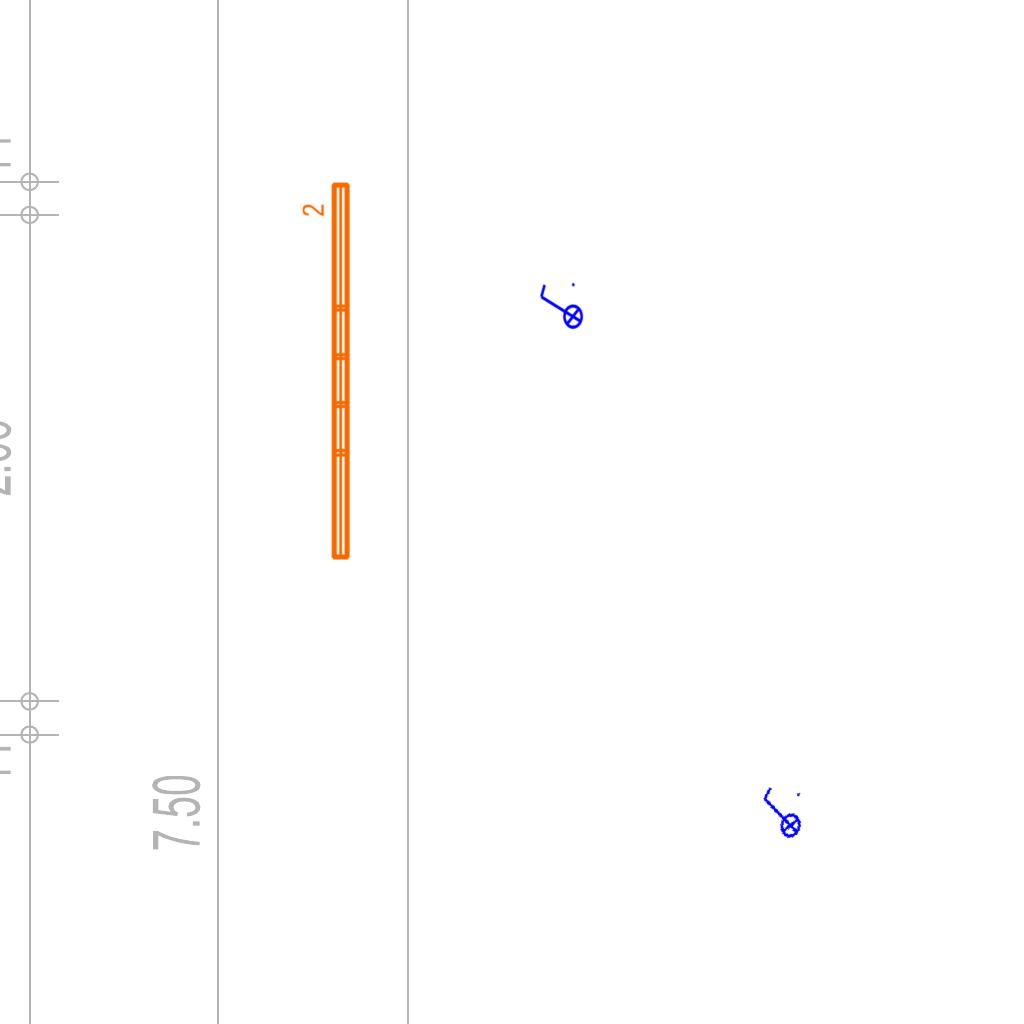Ambulanz_Pendelleuchte_LED: (300, 178, 356, 565)
Ausschalter_beleuchtet: (749, 781, 811, 847), (536, 280, 584, 336)
